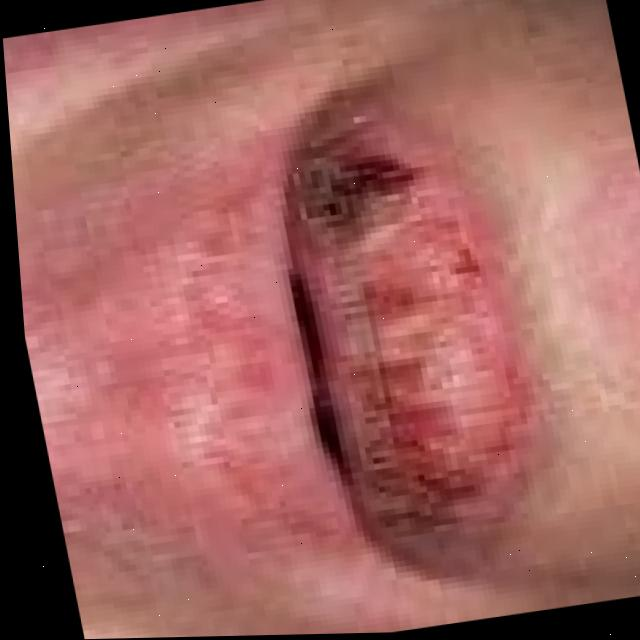Melasma: (294, 133, 492, 533)
